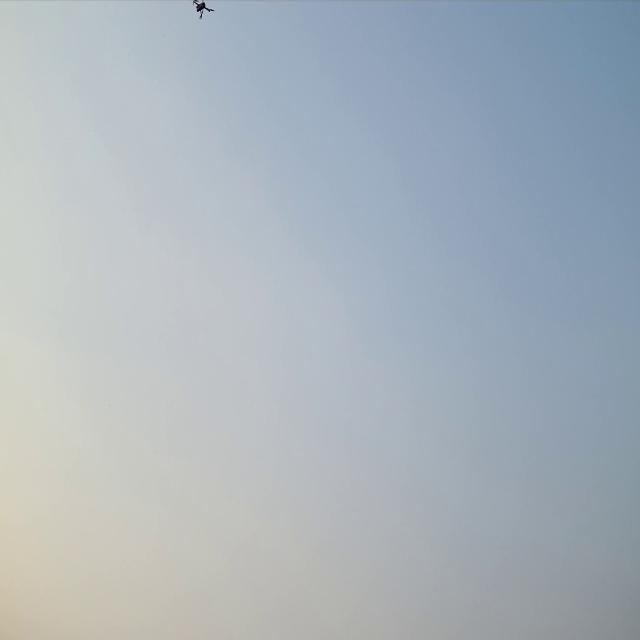UAV: (190, 0, 217, 23)
